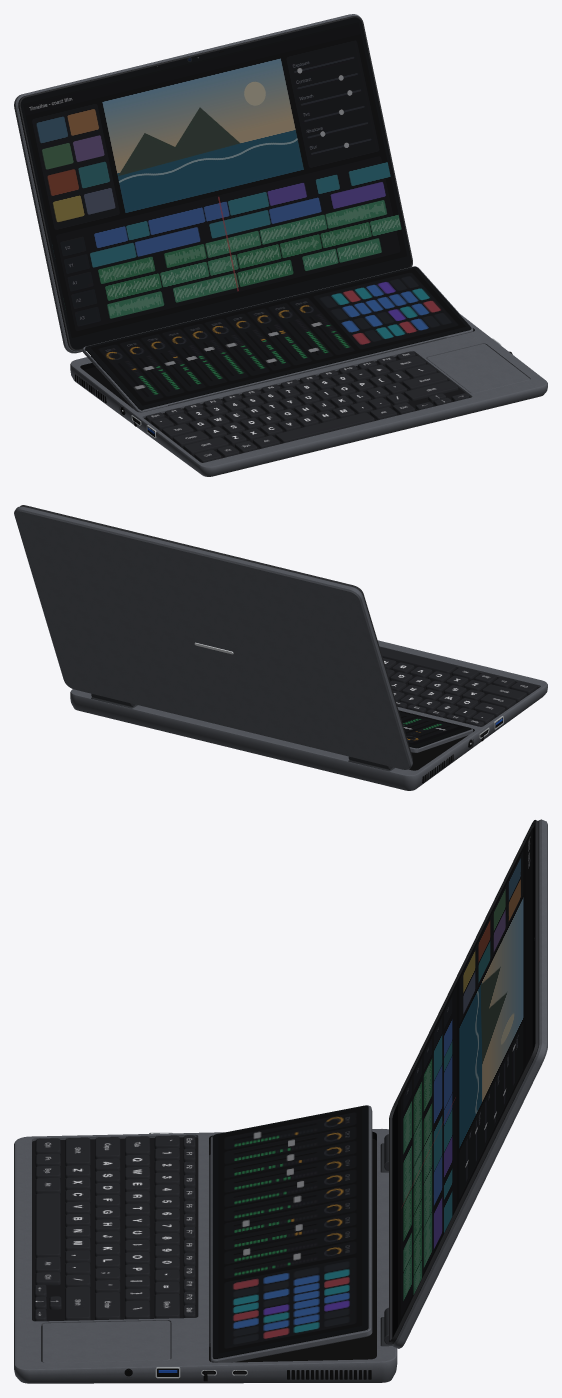
Rendered from dual-screen-laptop.glb.
The picture shows the model from 3 angles, top to bottom: view 1: azimuth 30°, elevation 25°; view 2: azimuth 150°, elevation 25°; view 3: azimuth 270°, elevation 25°; orthographic projection. The views are drawn at different scales.
Parts seen in each view (by area): view 1: Lid, Base, Second_Screen, Touchpad; view 2: Lid, Base, Second_Screen; view 3: Base, Lid, Second_Screen, Touchpad.
Boxes of the visible parts, x1,y1,x2,y2 form: Lid: (14,14,412,353); Base: (70,315,547,476); Second_Screen: (82,266,473,412); Touchpad: (427,344,529,393); Lid: (14,505,412,769); Base: (70,640,547,790); Second_Screen: (398,710,473,752); Base: (14,1129,397,1383); Lid: (384,819,547,1348); Second_Screen: (209,1105,372,1362); Touchpad: (42,1320,170,1362).
Size of the model in its own units: 0.3252 by 0.22 by 0.312.
17 materials, 4 textured.
